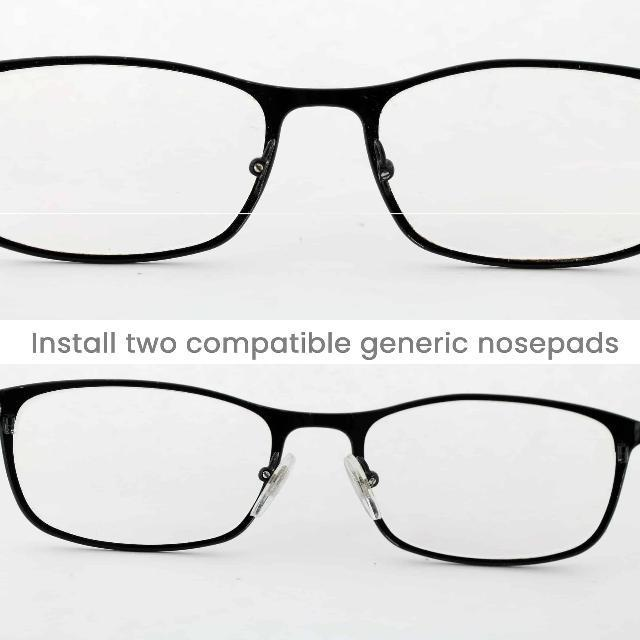mask: (0, 54, 640, 266), (0, 380, 640, 556)
